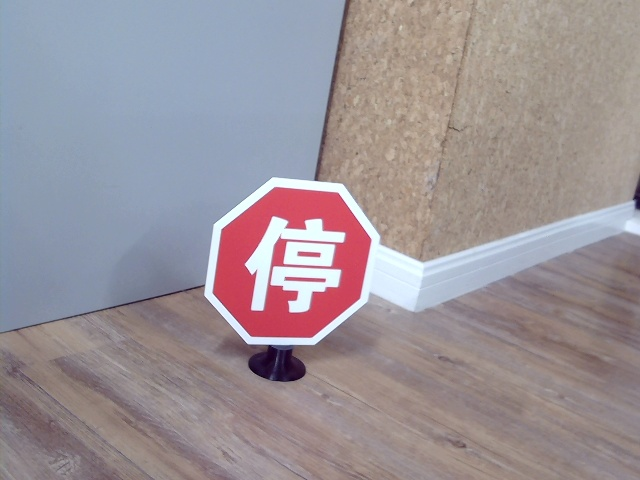stop: (246, 215, 342, 310)
